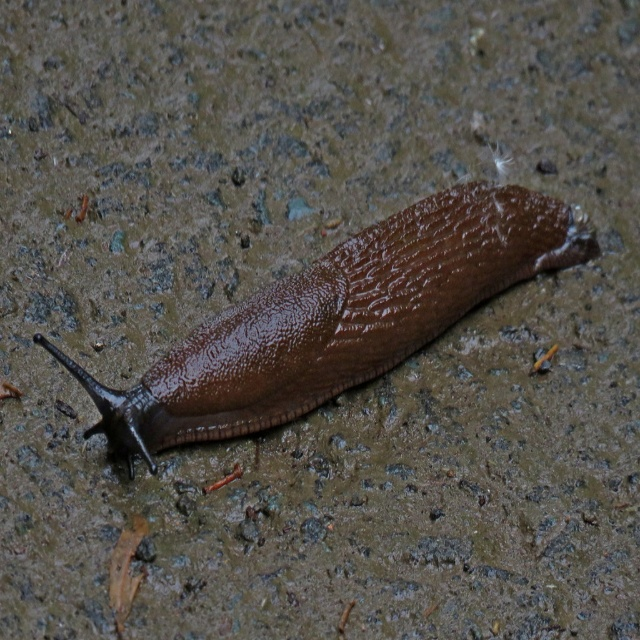Snail: (33, 139, 602, 481)
